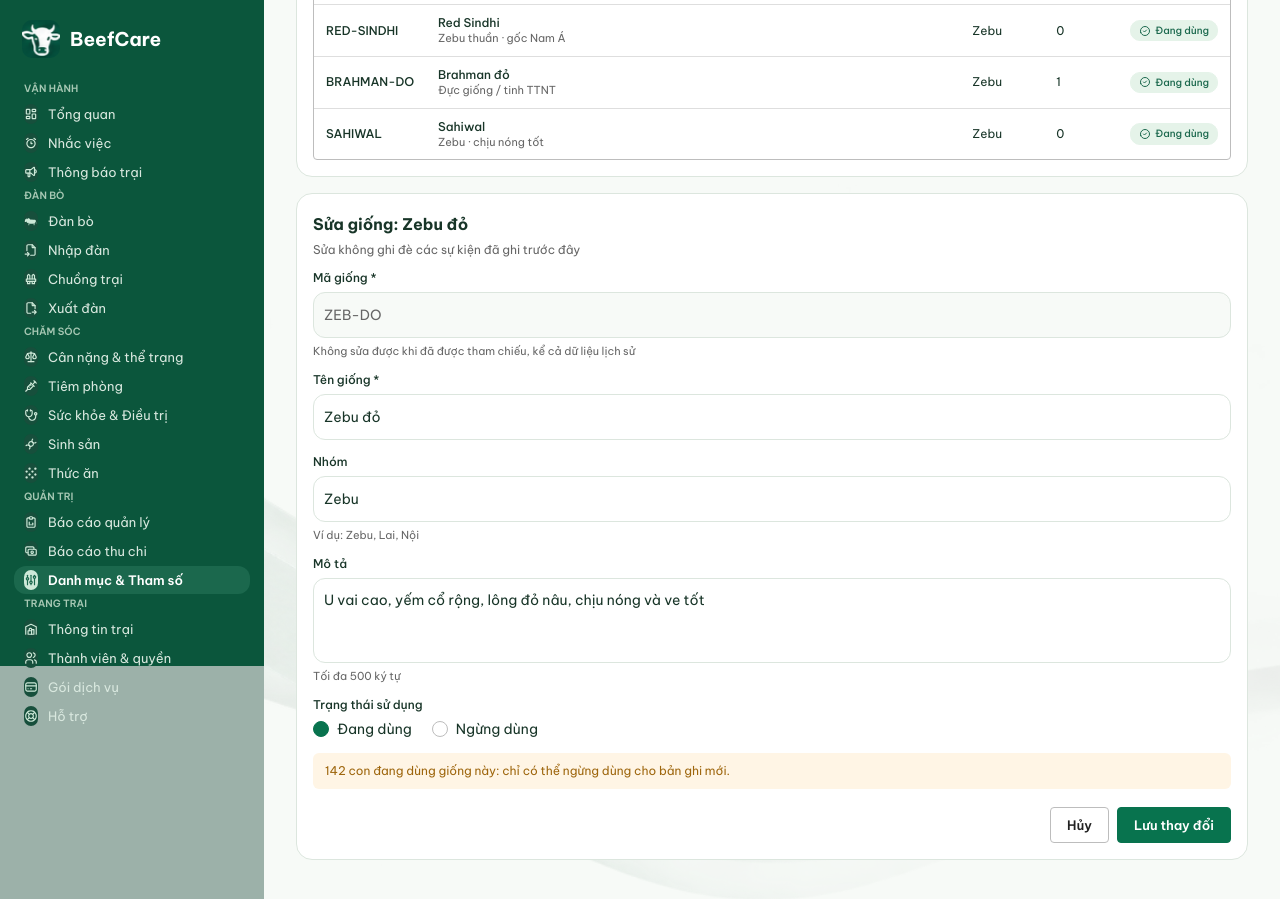
breeds tab › asks for confirmation before deactivating a referenced breed
The image size is (1280, 899).
(page scrolled)
Check: the text "Sửa giống: Zebu đỏ" is shown, box [313,214,468,234]
Click the radio button labelled "Ngừng dùng".
click(485, 729)  # box [432,719,538,739]
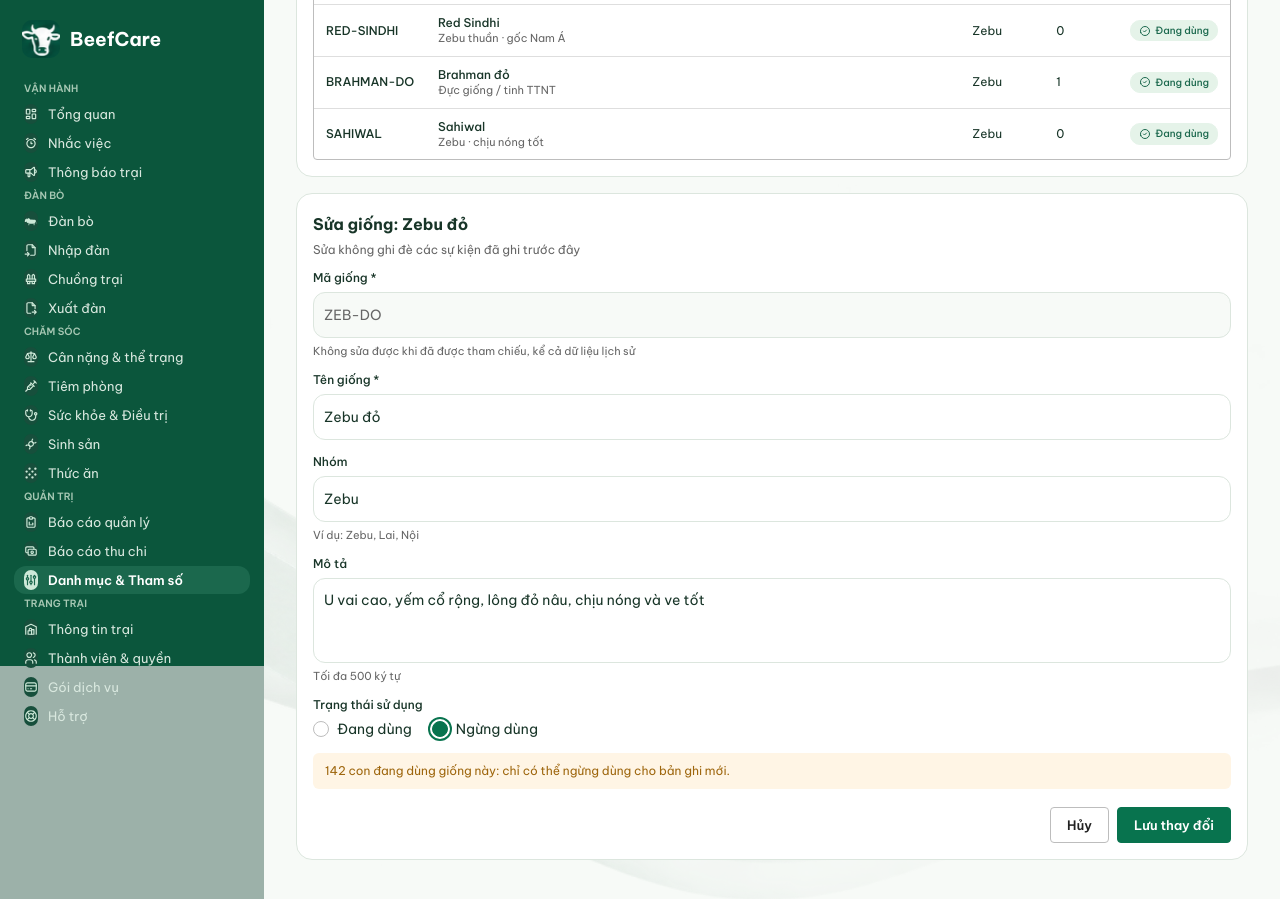
Click the button "Lưu thay đổi".
click(1174, 825)  # box [1117,807,1231,843]
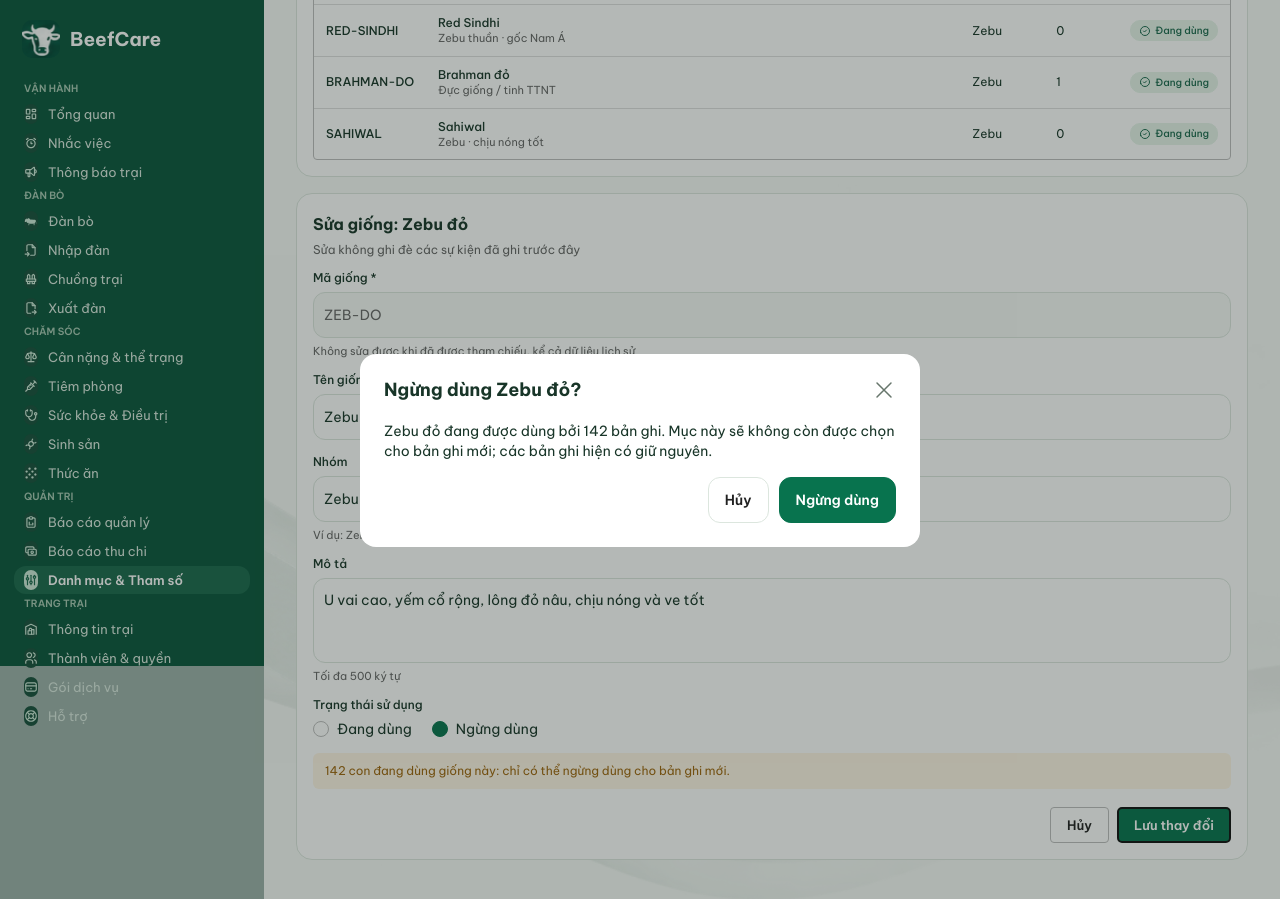
Check: the text "đang được dùng bởi 142 bản ghi" is shown, box [384,420,896,460]
Click the button "Ngừng dùng".
click(837, 500)  # box [778,476,896,522]
(page scrolled)
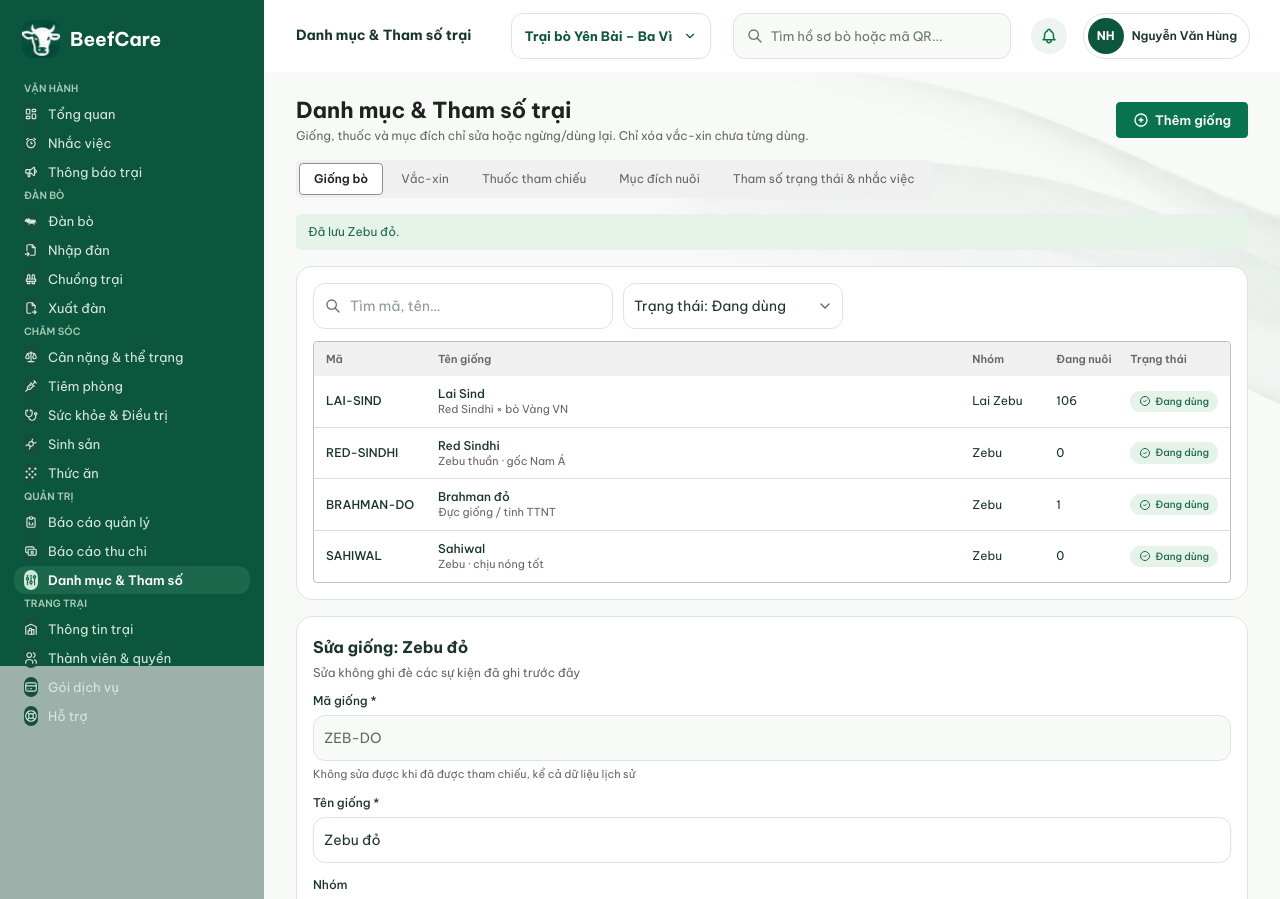
Check: the text "Đã lưu Zebu đỏ." is shown, box [308,224,400,239]
